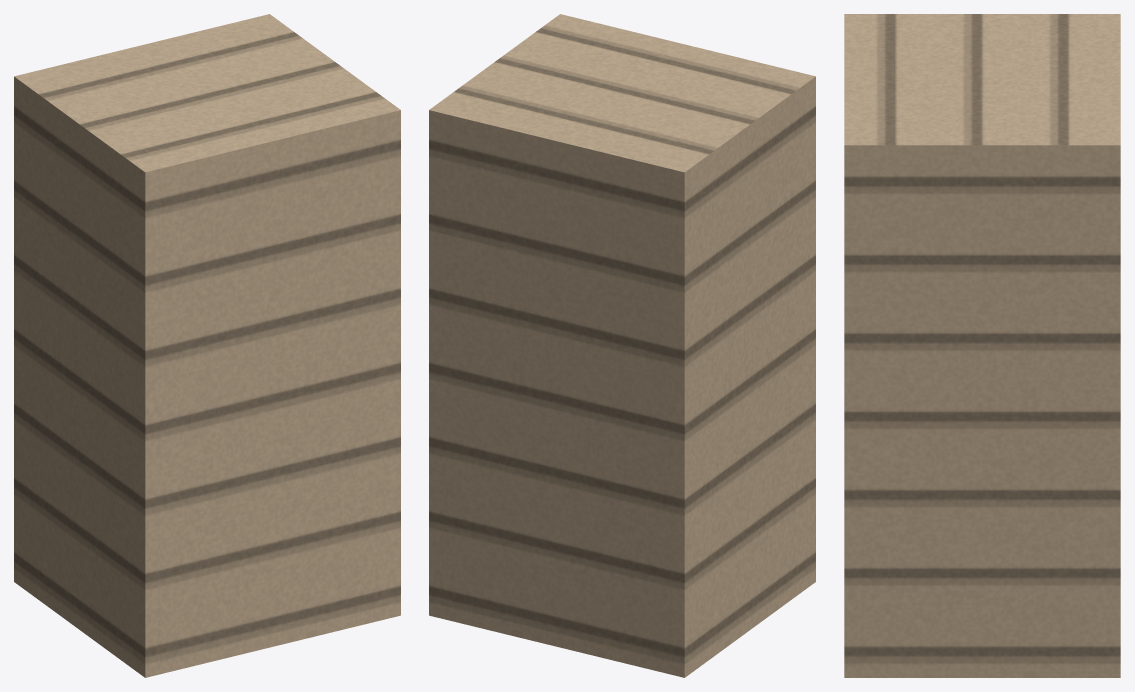
The model's file is pedestal_sink.glb.
3 renders of one model, left to right at view 1: azimuth 30°, elevation 25°; view 2: azimuth 150°, elevation 25°; view 3: azimuth 270°, elevation 25°, orthographic. The views are drawn at different scales.
Parts seen in each view (by area): view 1: pedestal_sink-col; view 2: pedestal_sink-col; view 3: pedestal_sink-col.
Part boxes in pixels (bbox=[...]): pedestal_sink-col: bbox=[14, 14, 400, 677]; pedestal_sink-col: bbox=[429, 14, 815, 677]; pedestal_sink-col: bbox=[844, 14, 1120, 677].
Bounding box in the file's own units: 0.45 × 0.85 × 0.4.
Materials: 1 (1 with a texture image).
